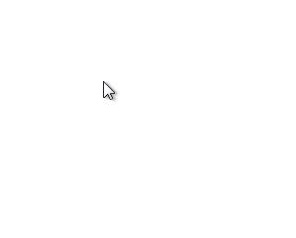cursor: (101, 78, 117, 102)
